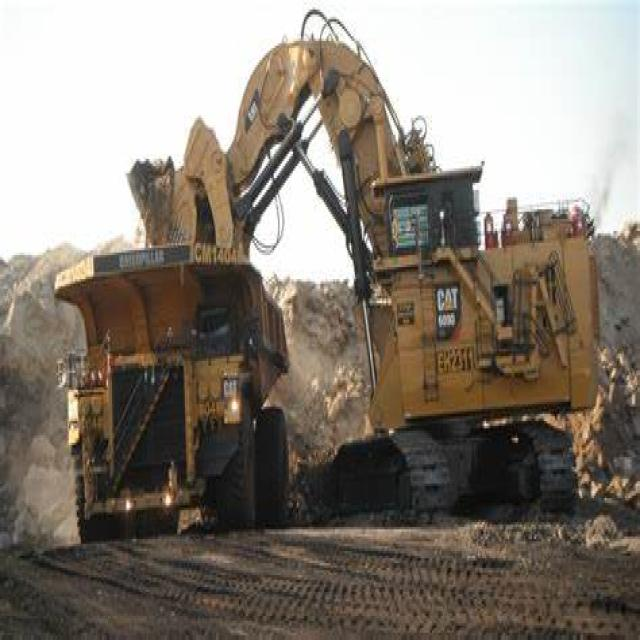dump_truck: (49, 219, 298, 565)
